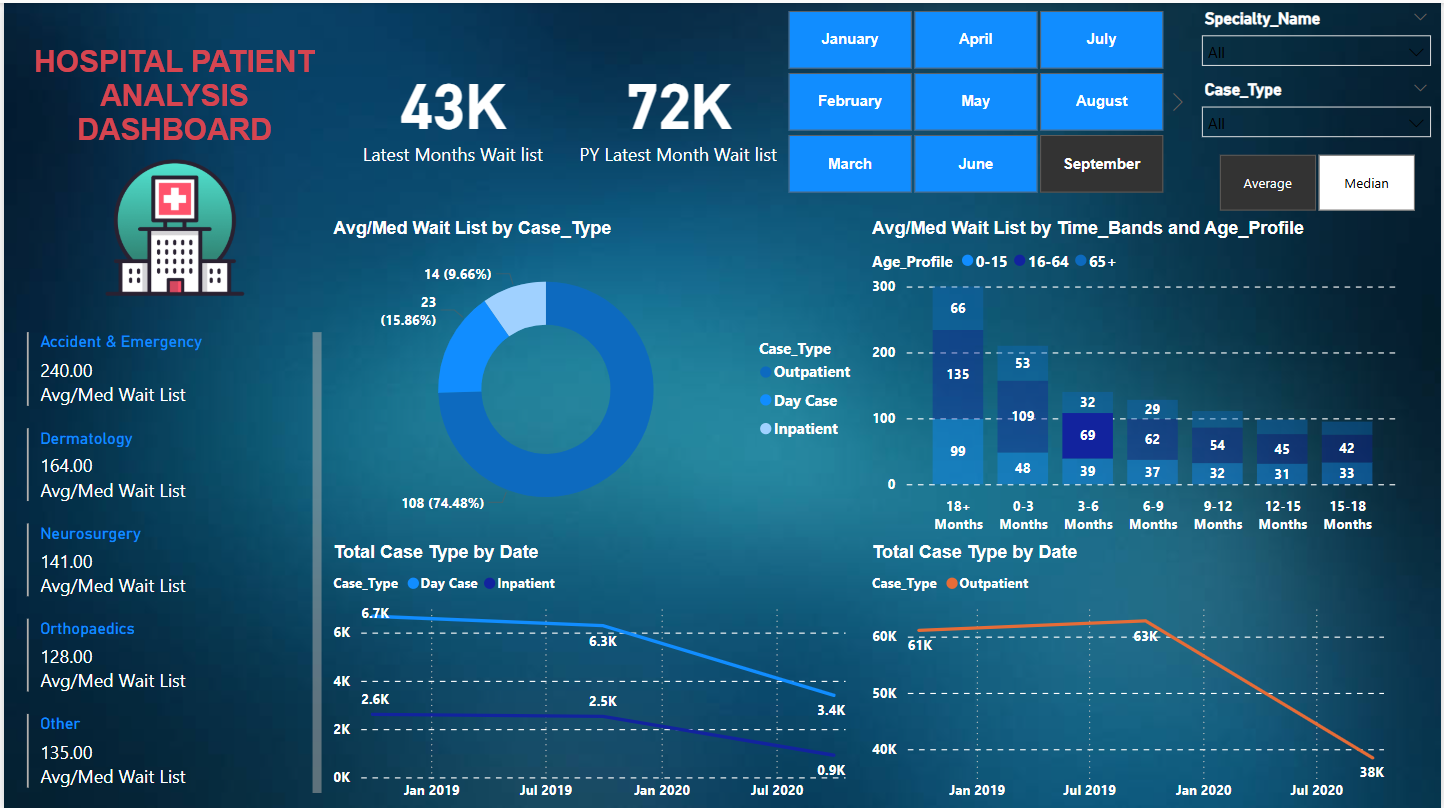

The page's visual inventory and layout, read from the dashboard file:
{"tool":"powerbi","page":{"name":"Page 1","canvas":[1280,720],"ordinal":0},"visuals":[{"type":"card","fields":{"Values":["All_Data.Latest Months Wait list"]},"box":[304,32,192,128],"z":0},{"type":"card","fields":{"Values":["All_Data.PY Latest Month Wait list"]},"box":[496,32,208,128],"z":1000},{"type":"slicer","fields":{"Values":["calcuation method.calc Method"]},"box":[1056,128,224,64],"z":2000},{"type":"donutChart","fields":{"Category":["All_Data.Case_Type"],"Y":["All_Data.Avg/Med Wait List"]},"box":[288,192,480,288],"z":3000},{"type":"columnChart","fields":{"Y":["All_Data.Avg/Med Wait List"],"Series":["All_Data.Age_Profile"],"Category":["All_Data.Time_Bands"]},"box":[768,192,480,288],"z":4000},{"type":"multiRowCard","fields":{"Values":["All_Data.Specialty_Name","All_Data.Avg/Med Wait List"]},"box":[16,288,272,432],"z":5000},{"type":"lineChart","title":"Total Case Type by Date","fields":{"Series":["All_Data.Case_Type"],"Category":["All_Data.Archive_Date"],"Y":["Sum(All_Data.Total)"]},"box":[288,480,480,240],"z":6000},{"type":"lineChart","title":"Total Case Type by Date","fields":{"Series":["All_Data.Case_Type"],"Category":["All_Data.Archive_Date"],"Y":["Sum(All_Data.Total)"]},"box":[768,480,480,240],"z":7000},{"type":"slicer","fields":{"Values":["All_Data.Archive_Date.Variation.Date Hierarchy.Month"]},"box":[672,0,384,176],"z":8000},{"type":"slicer","fields":{"Values":["All_Data.Case_Type"]},"box":[1056,64,224,64],"z":9000},{"type":"slicer","fields":{"Values":["All_Data.Specialty_Name"]},"box":[1056,0,224,64],"z":10000},{"type":"textbox","box":[16,32,272,128],"z":11000},{"type":"image","box":[80,128,144,144],"z":12000}]}

Visuals, with their boxes in screenshot pixels (x1, y1, x2, y2), scaled from the page's 1280x720 canvas onto the 1444x808 screenshot:
card - All_Data.Latest Months Wait list: 343,36,560,180
card - All_Data.PY Latest Month Wait list: 560,36,794,180
slicer - calcuation method.calc Method: 1191,144,1443,215
donutChart - All_Data.Case_Type x All_Data.Avg/Med Wait List: 325,215,866,539
columnChart - All_Data.Avg/Med Wait List x All_Data.Age_Profile: 866,215,1408,539
multiRowCard - All_Data.Specialty_Name x All_Data.Avg/Med Wait List: 18,323,325,807
"Total Case Type by Date" lineChart: 325,539,866,807
"Total Case Type by Date" lineChart: 866,539,1408,807
slicer - All_Data.Archive_Date.Variation.Date Hierarchy.Month: 758,0,1191,198
slicer - All_Data.Case_Type: 1191,72,1443,144
slicer - All_Data.Specialty_Name: 1191,0,1443,72
textbox: 18,36,325,180
image: 90,144,253,305
